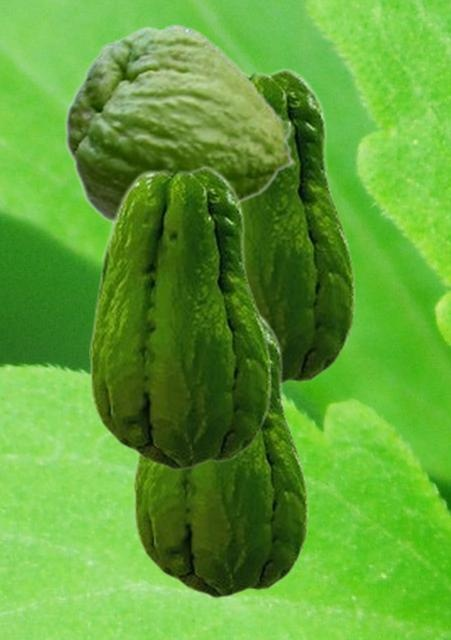sayote: (89, 165, 271, 470), (133, 312, 308, 598), (64, 23, 296, 224), (243, 67, 355, 387)
